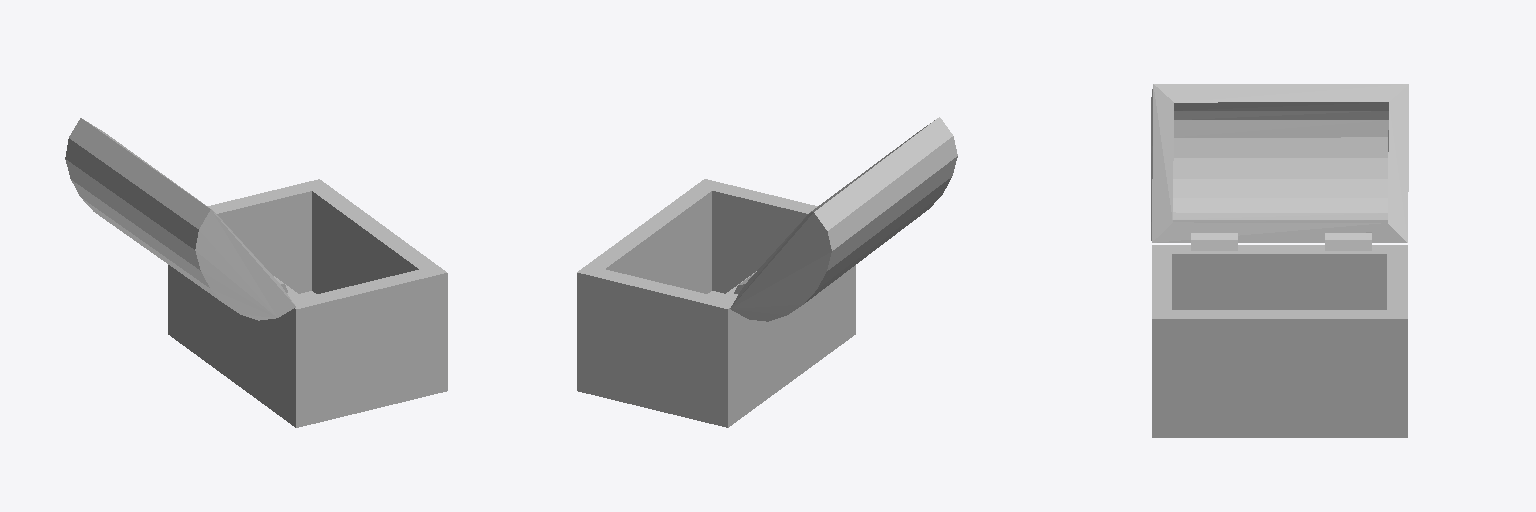
Rendered from Chest_001_low.obj.
The picture shows the model from 3 angles: view 1: azimuth 30°, elevation 25°; view 2: azimuth 150°, elevation 25°; view 3: azimuth 270°, elevation 25°; orthographic projection.
Visible parts, largest first — view 1: Cube; view 2: Cube; view 3: Cube.
Part boxes in pixels (left/top/right/bottom): Cube: left=65, top=118, right=447, bottom=427; Cube: left=577, top=117, right=957, bottom=427; Cube: left=1151, top=84, right=1408, bottom=437.
Bounding box in the file's own units: 1.05 × 0.9432 × 0.9266.